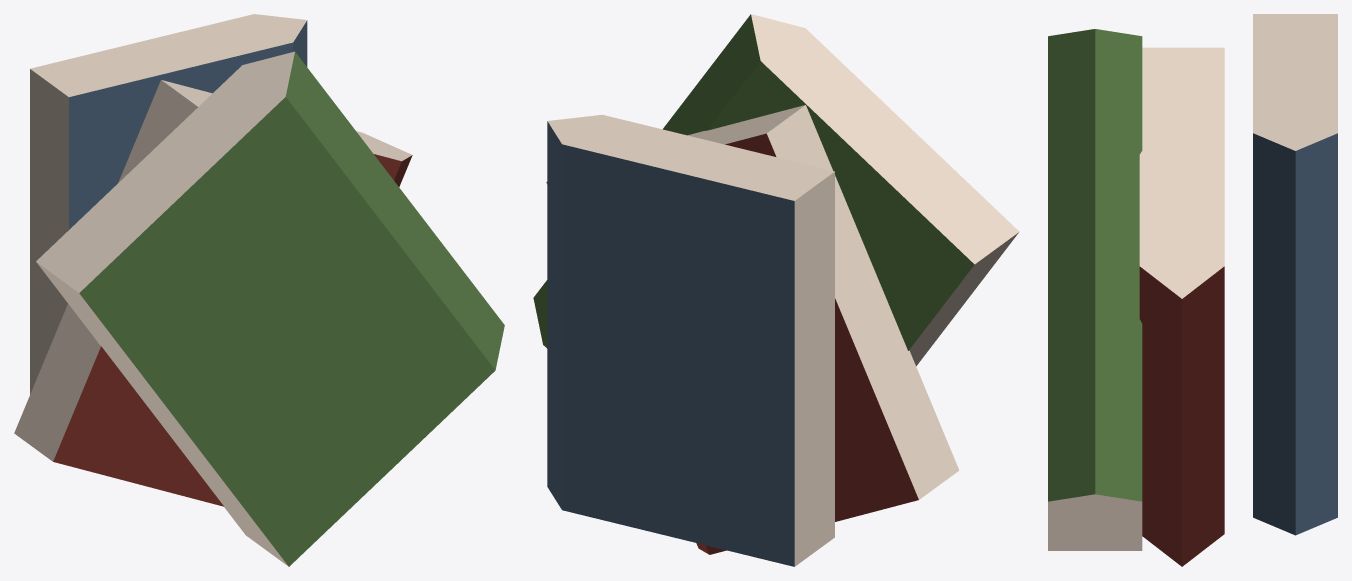
File: Book_collection.fbx
3 views of the same model, side by side, from view 1: azimuth 30°, elevation 25°; view 2: azimuth 150°, elevation 25°; view 3: azimuth 270°, elevation 25° (orthographic). The views are drawn at different scales.
Visible parts, largest first — view 1: Book collection; view 2: Book collection; view 3: Book collection.
Boxes of the visible parts, left/top/right/bottom form: Book collection: left=14, top=14, right=504, bottom=566; Book collection: left=533, top=14, right=1019, bottom=566; Book collection: left=1048, top=14, right=1337, bottom=566.
Bounding box in the file's own units: 114 × 120 × 58.64.
